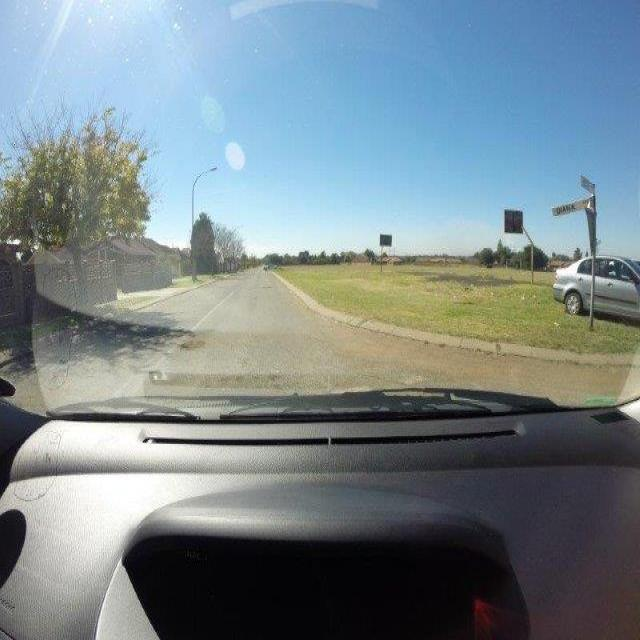lubang: (175, 334, 210, 350), (259, 282, 276, 292)
